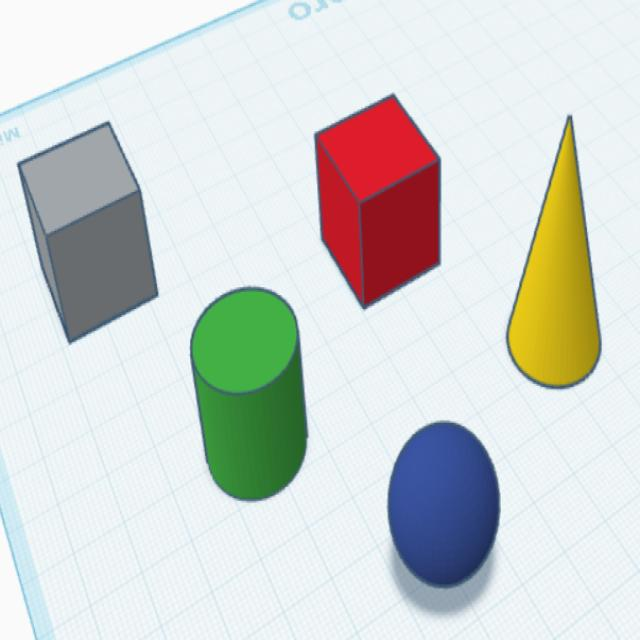cone: (505, 112, 604, 393)
cube: (15, 118, 162, 348), (312, 89, 443, 314)
sphere: (385, 418, 503, 592)
